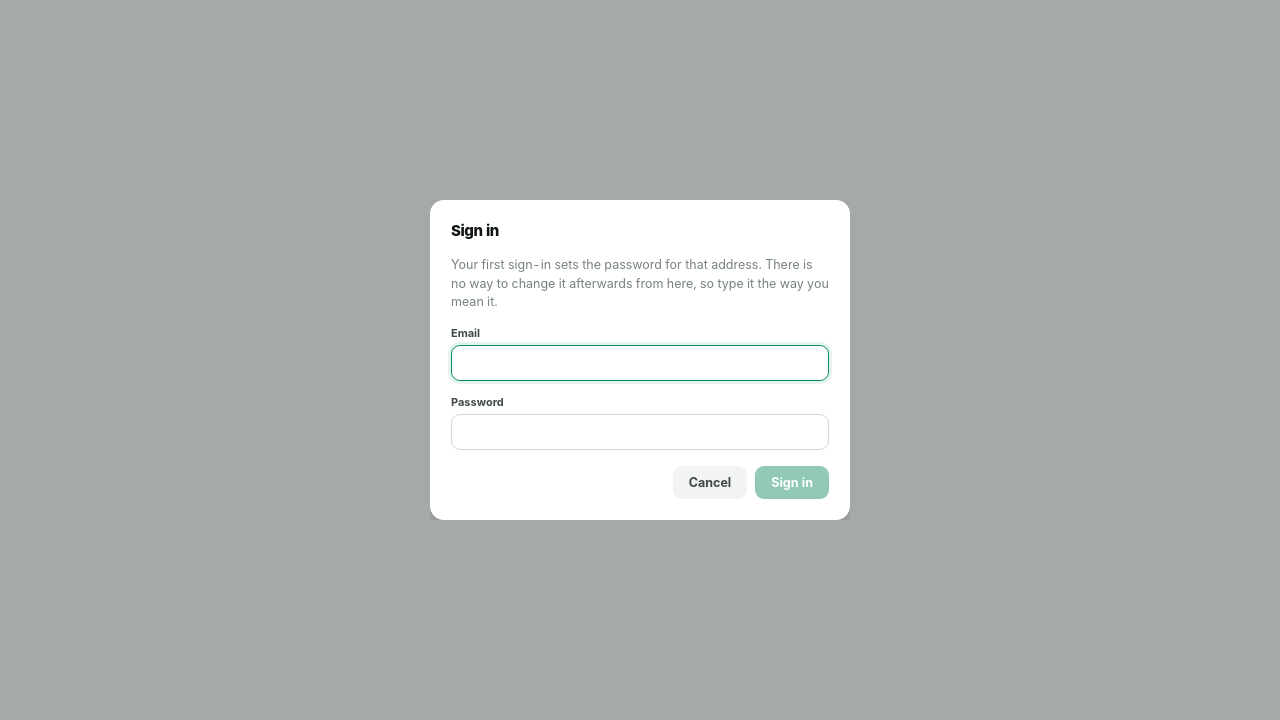
Test: the sign-in dialog › shows the server’s sentence, and stays on the form
Type "rider@example.com" into the field labelled "Email" at (640, 363), box x1=451 y1=345 x2=829 y2=381
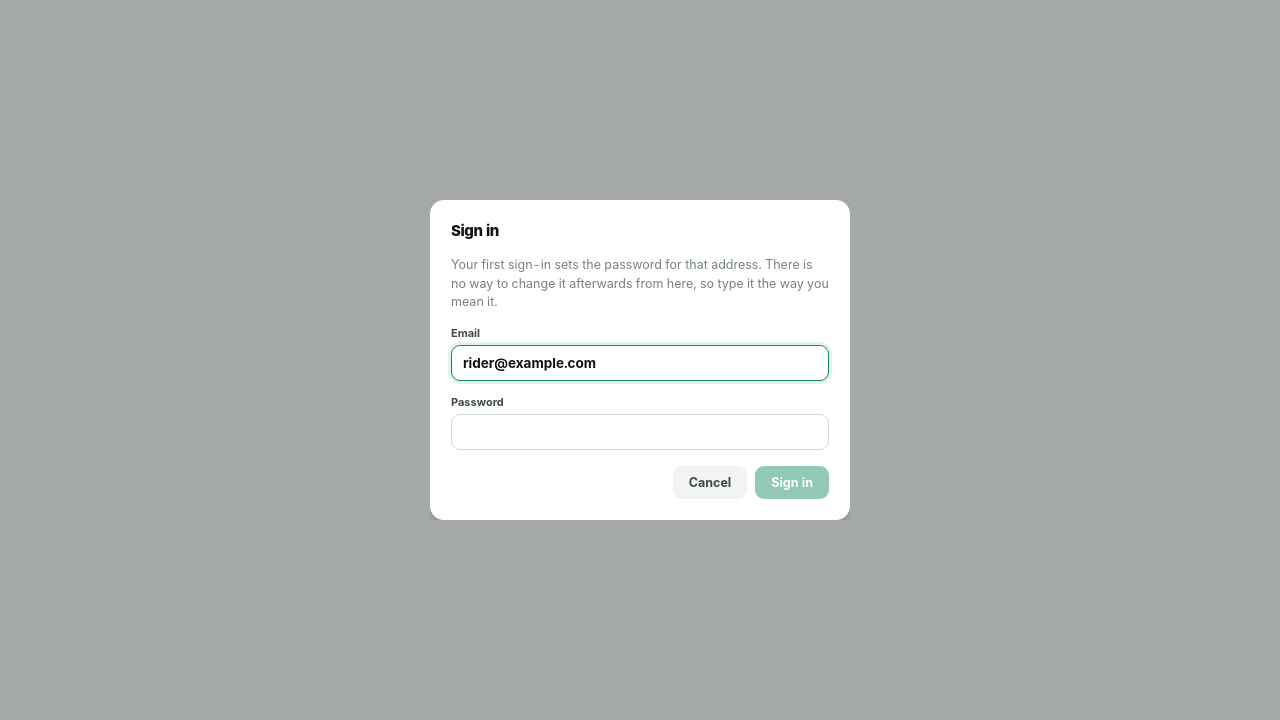
Type "the wrong one" into the password field labelled "Password" at (640, 432), box x1=451 y1=414 x2=829 y2=450
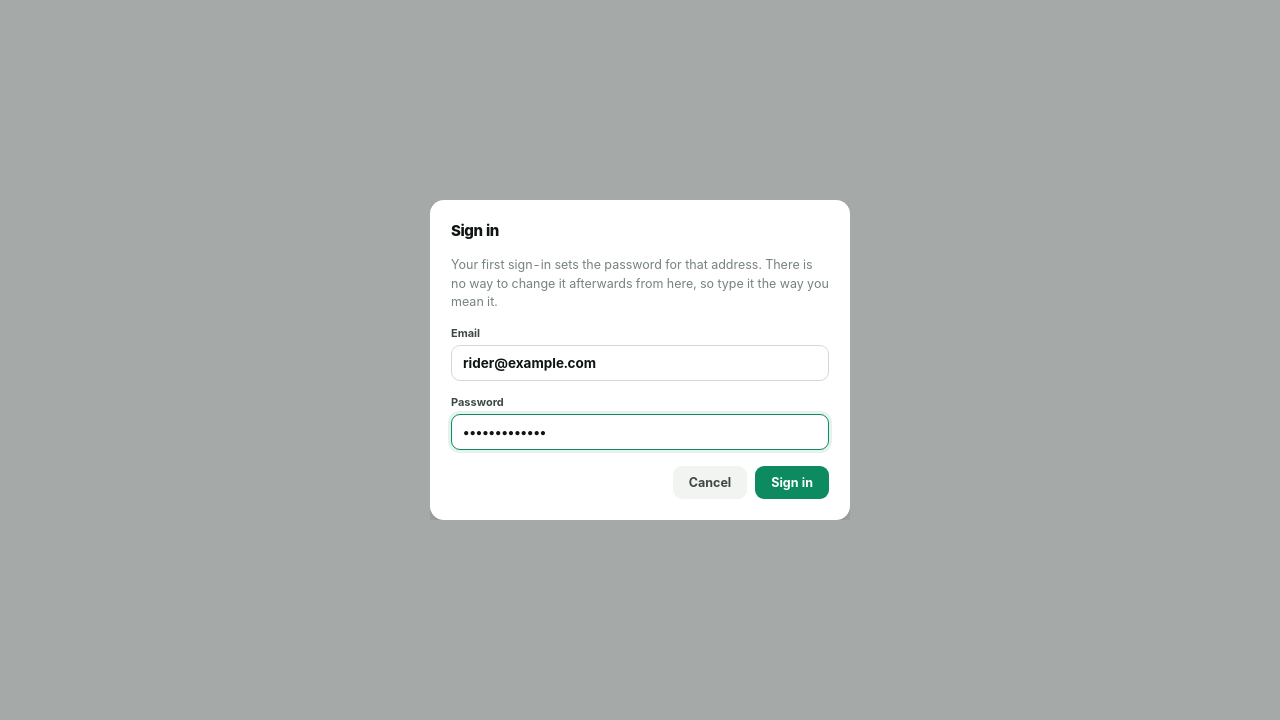
Click the button "Sign in" at (792, 483), box x1=755 y1=466 x2=829 y2=499
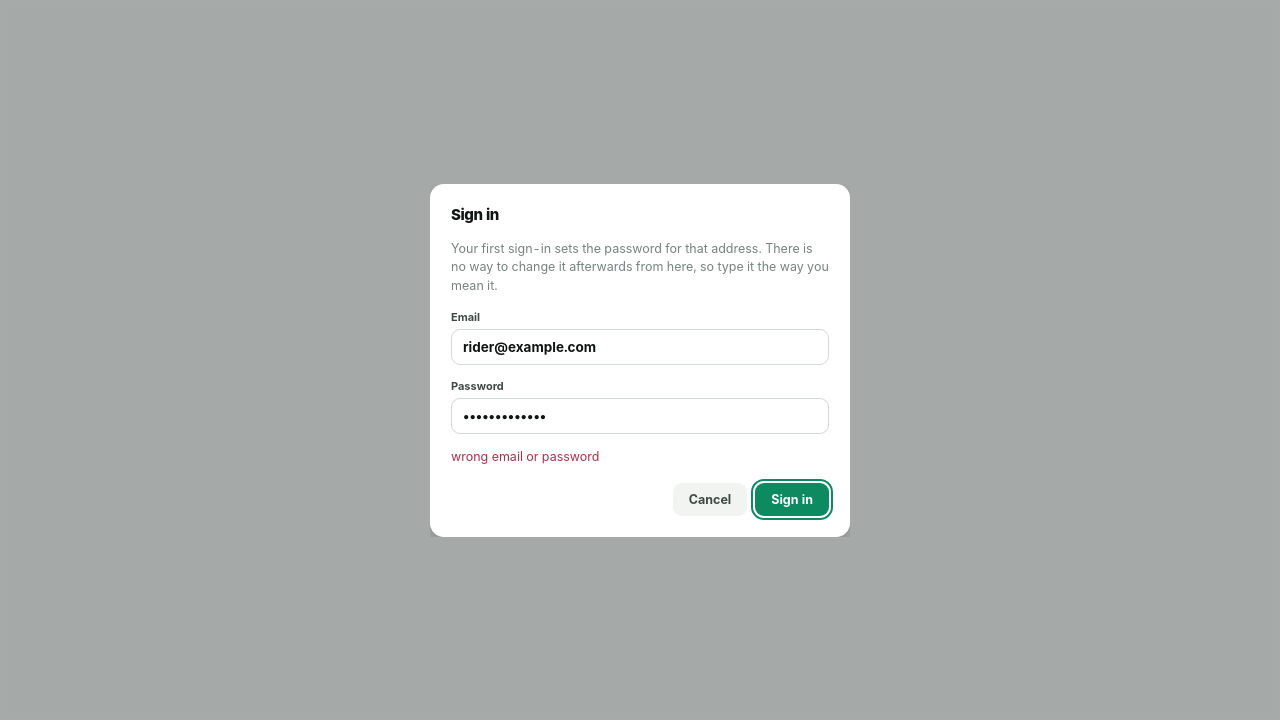
Result: the text "wrong email or password" is shown at x1=451 y1=449 x2=600 y2=464
